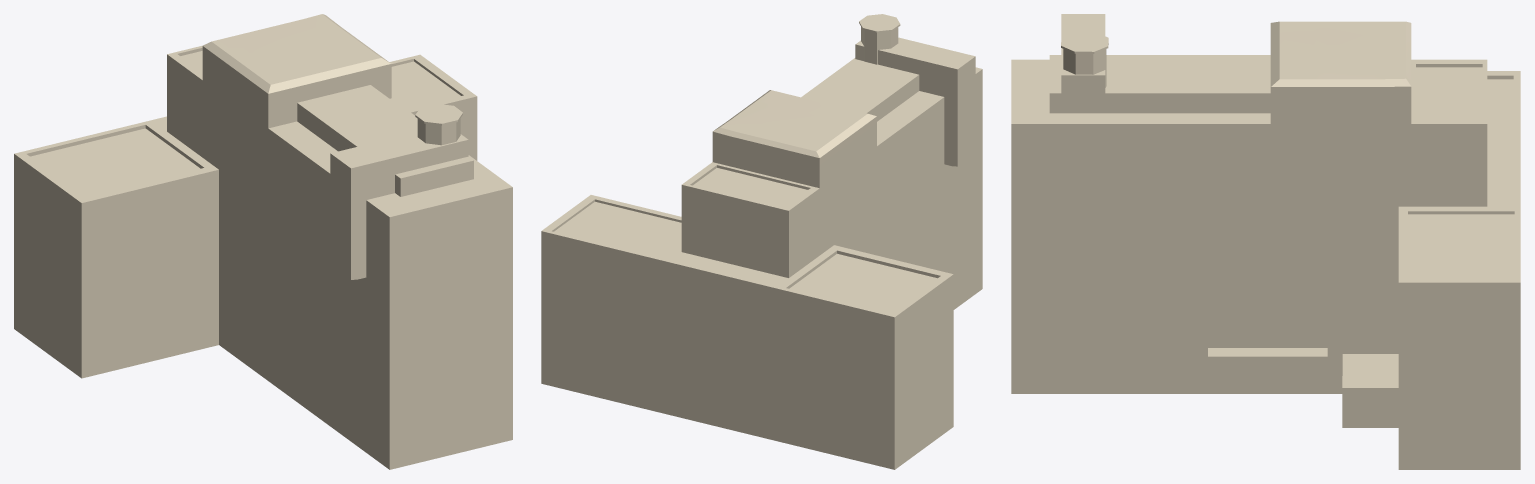
File: SM_Backett_Laboratory.fbx
The picture shows the model from 3 angles, left to right: view 1: azimuth 30°, elevation 25°; view 2: azimuth 150°, elevation 25°; view 3: azimuth 270°, elevation 25°; orthographic projection. The views are drawn at different scales.
Visible parts, largest first — view 1: SM_Backett_Laboratory; view 2: SM_Backett_Laboratory; view 3: SM_Backett_Laboratory.
Boxes of the visible parts, x1,y1,x2,y2 form: SM_Backett_Laboratory: [14, 14, 512, 469]; SM_Backett_Laboratory: [541, 14, 982, 469]; SM_Backett_Laboratory: [1011, 14, 1520, 469].
Bounding box in the file's own units: 65.44 × 47.81 × 66.5.
